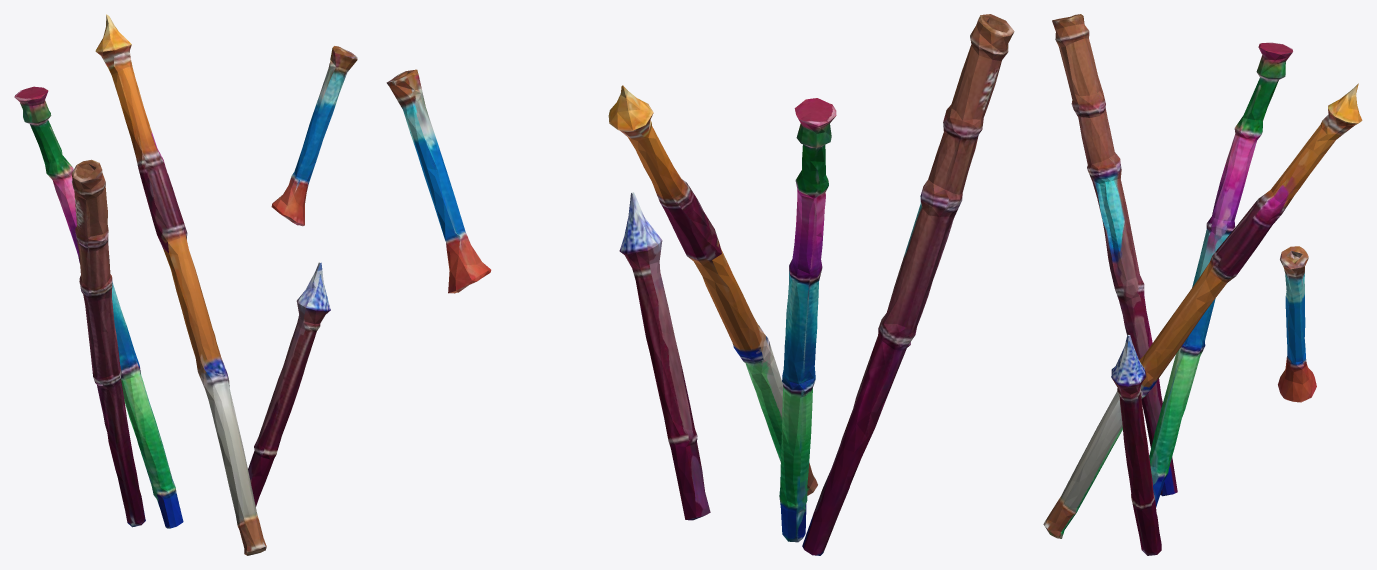
File: blowdart.glb
3 renders of one model, left to right at view 1: azimuth 30°, elevation 25°; view 2: azimuth 150°, elevation 25°; view 3: azimuth 270°, elevation 25°, orthographic. The views are drawn at different scales.
Parts seen in each view (by area): view 1: tmp8v_4uurl.ply; view 2: tmp8v_4uurl.ply; view 3: tmp8v_4uurl.ply.
Part boxes in pixels (x1,y1,x2,y2): tmp8v_4uurl.ply: [14, 14, 357, 555]; tmp8v_4uurl.ply: [386, 14, 1014, 555]; tmp8v_4uurl.ply: [1043, 14, 1362, 555].
Bounding box in the file's own units: 1.86 × 1.99 × 1.27.
1 material, 1 textured.
